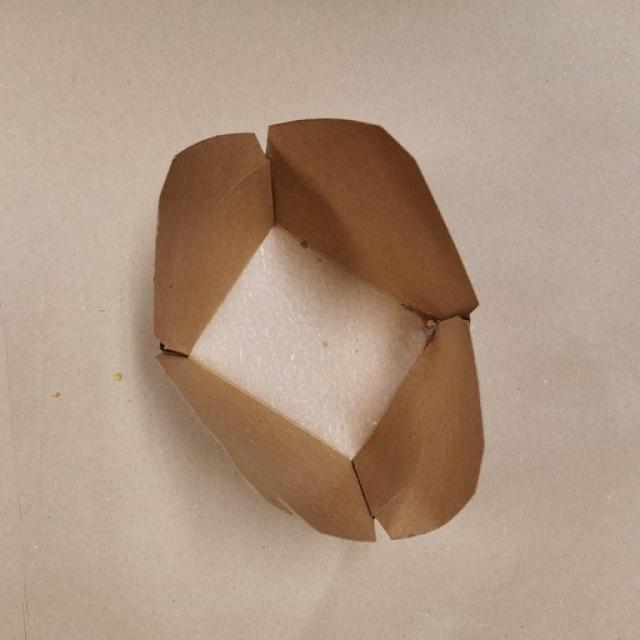PaperCardboard: (155, 117, 495, 542)
